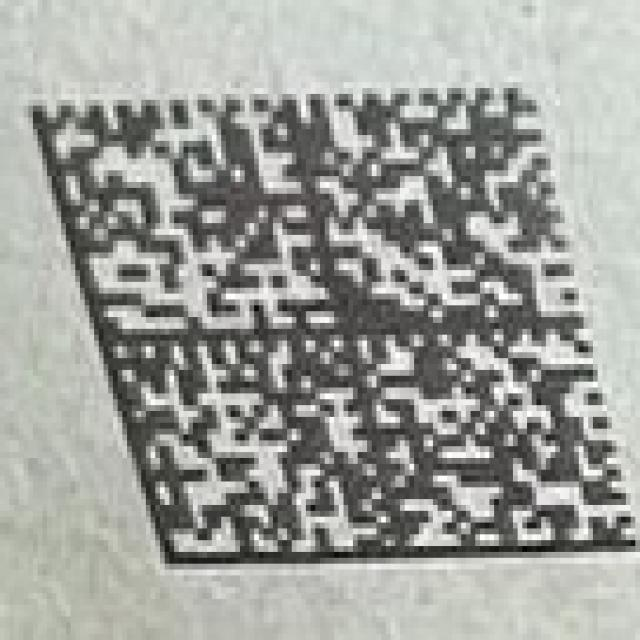QR_CODE: (28, 84, 639, 568)
